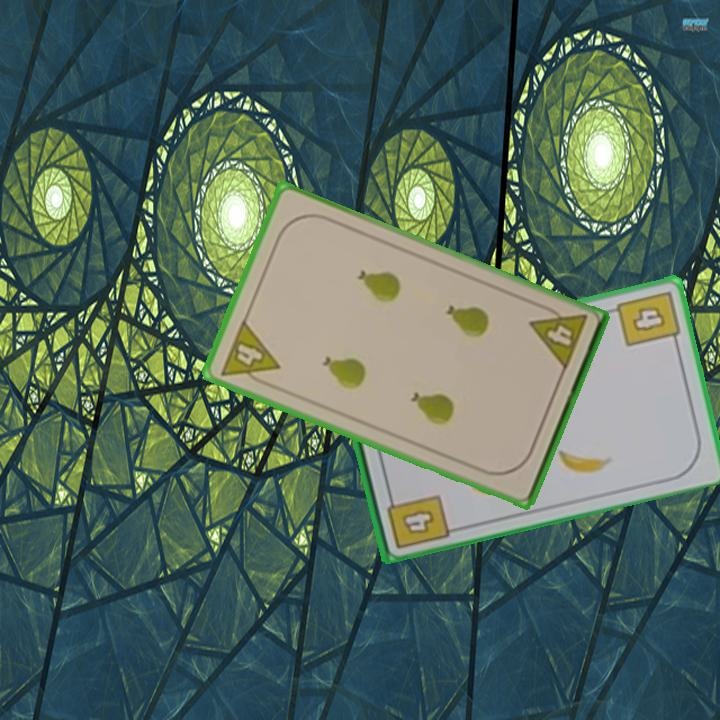4b: (383, 486, 452, 552), (613, 287, 683, 349)
4p: (216, 316, 283, 391), (526, 300, 590, 374)
